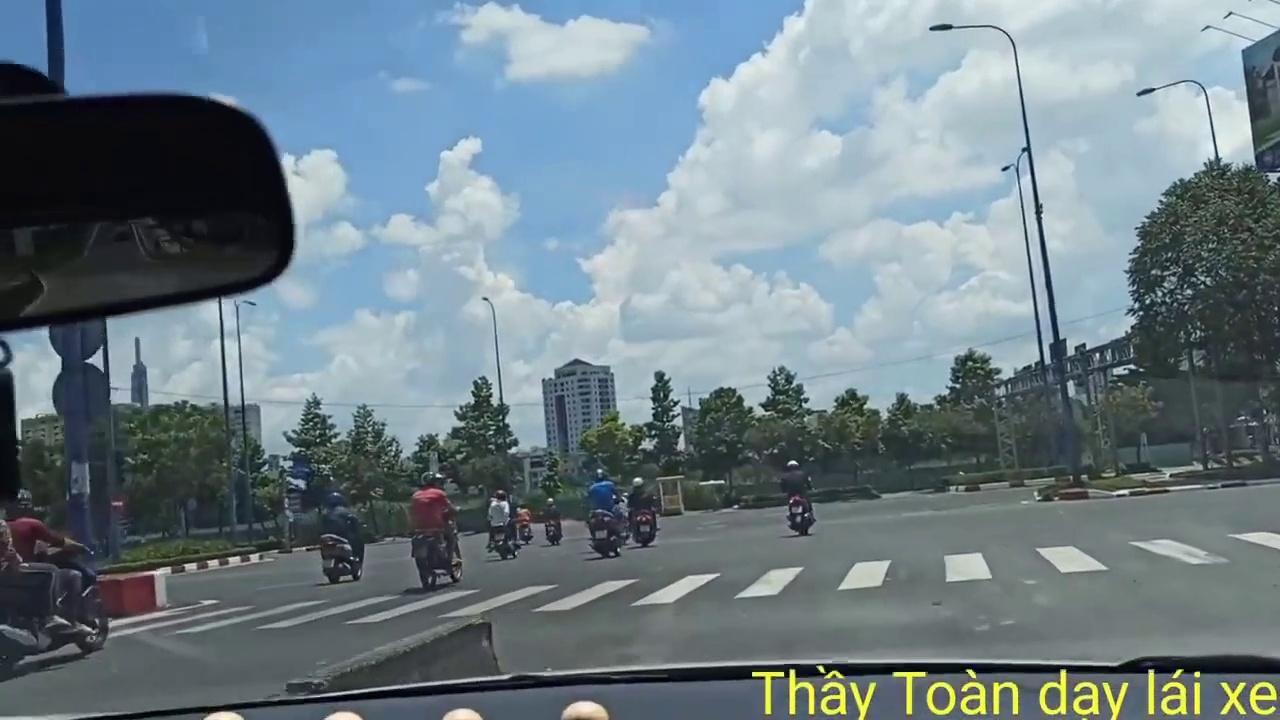Cấm đi ngược chiều: (108, 490, 128, 516)
